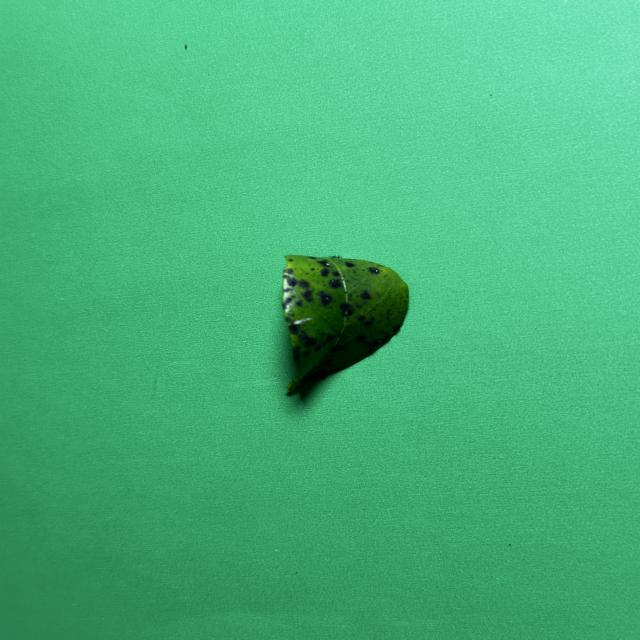sooty_mold: (281, 255, 409, 391)
